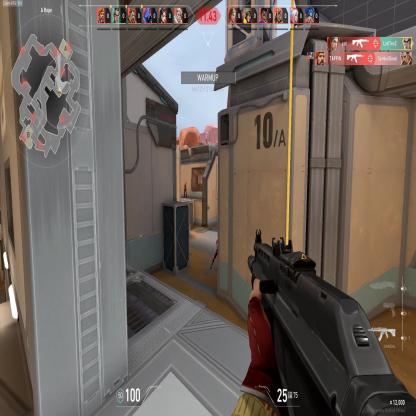enemy: (210, 235, 217, 270), (183, 182, 187, 198)
